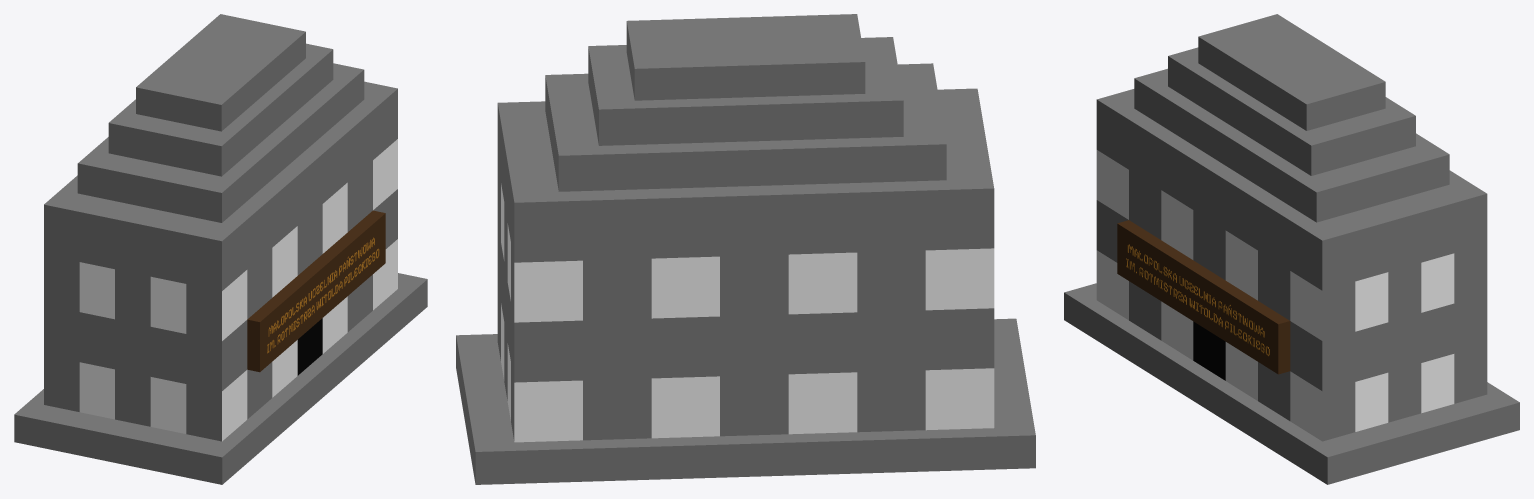
Rendered from MupBuilding.glb.
3 views of the same model, side by side, from view 1: azimuth 30°, elevation 25°; view 2: azimuth 150°, elevation 25°; view 3: azimuth 270°, elevation 25° (orthographic). The views are drawn at different scales.
Visible parts, largest first — view 1: School; view 2: School; view 3: School.
Part boxes in pixels (bbox=[...]): School: bbox=[14, 14, 427, 484]; School: bbox=[456, 14, 1035, 484]; School: bbox=[1064, 14, 1519, 484].
Size of the model in its own units: 43.75 by 29.31 by 38.35.
